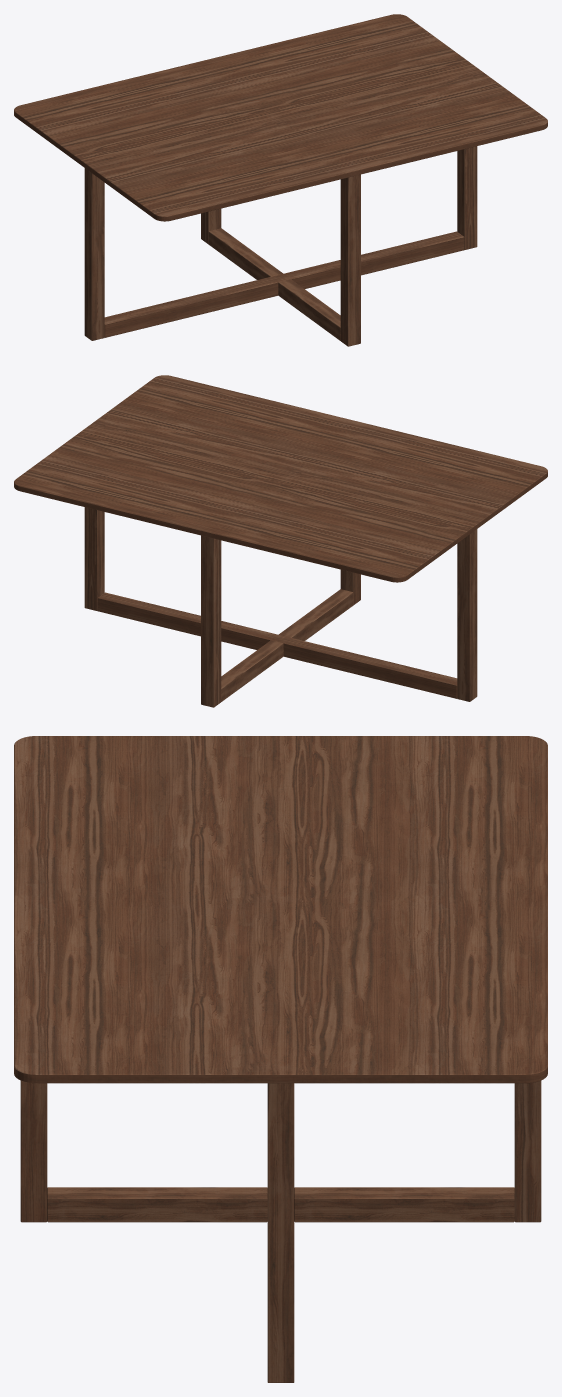
The model's file is dlx-_couch_table_wood.glb.
3 views of the same model, one above another, from view 1: azimuth 30°, elevation 25°; view 2: azimuth 150°, elevation 25°; view 3: azimuth 270°, elevation 25° (orthographic). The views are drawn at different scales.
Parts seen in each view (by area): view 1: dlX-Couch Table (wood); view 2: dlX-Couch Table (wood); view 3: dlX-Couch Table (wood).
Boxes of the visible parts, <box> form: dlX-Couch Table (wood): <box>14,14,547,346</box>; dlX-Couch Table (wood): <box>14,375,547,707</box>; dlX-Couch Table (wood): <box>14,736,547,1382</box>.
Size of the model in its own units: 1.2 by 0.5155 by 0.8.
Materials: 1 (1 with a texture image).
